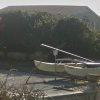Boat: (27, 47, 94, 84)
